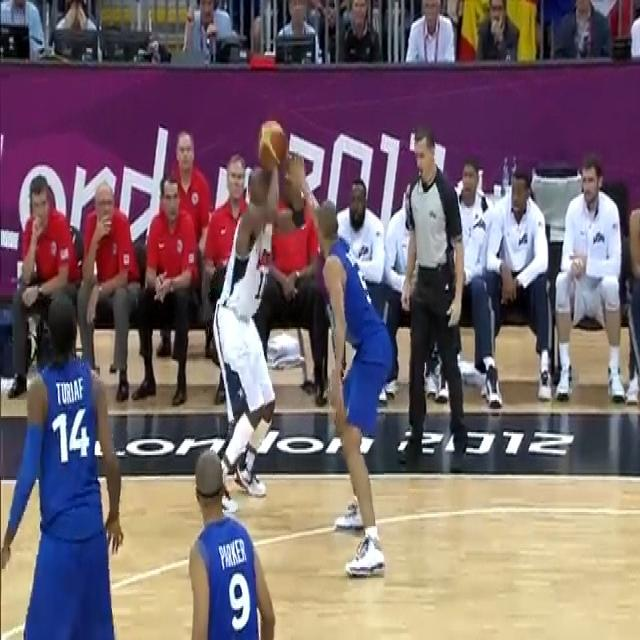basketball: (256, 119, 290, 169)
